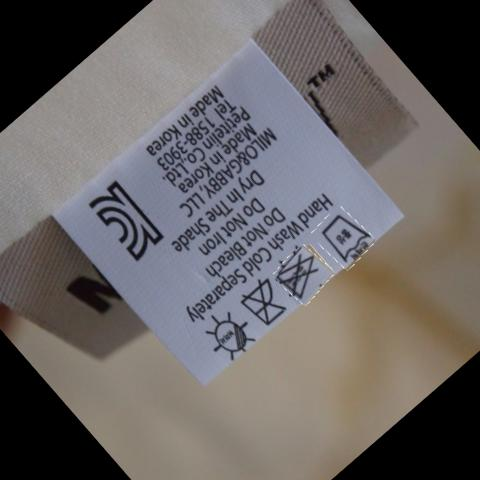DN_bleach: (279, 249, 318, 298)
DN_iron: (245, 282, 288, 323)
dry_flat_in_shade: (209, 312, 253, 358)
hand_wash: (318, 212, 372, 263)
